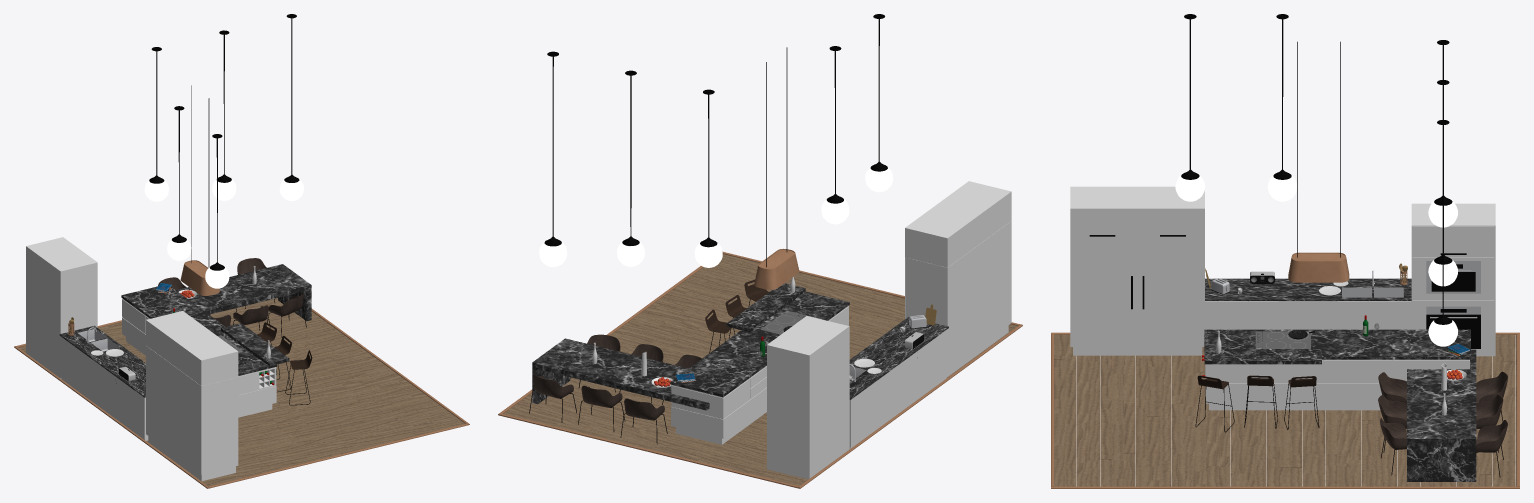
File: kitchen_set.glb
3 renders of one model, left to right at view 1: azimuth 30°, elevation 25°; view 2: azimuth 150°, elevation 25°; view 3: azimuth 270°, elevation 25°, orthographic. The views are drawn at different scales.
Visible parts, largest first — view 1: Floor, Fridge, Cube.009, OvenDrawer, MainCounter, CeilingLamp, OverheadLight, CeilingLamp.002, CeilingLamp.001, Chair.001, Chair.002; view 2: Floor, Cube.009, Fridge, OvenDrawer, MainCounter, CeilingLamp, OverheadLight, CeilingLamp.001, CeilingLamp.002, Chair.005, Chair.004, Chair; view 3: Floor, Cube.009, Fridge, MainCounter, OvenDrawer, CeilingLamp, OverheadLight, CeilingLamp.001, CeilingLamp.002, StoveTop, Chair, Chair.005 (+6 smaller).
Boxes of the visible parts, bbox=[...] form: Floor: bbox=[14, 298, 469, 488]; Fridge: bbox=[146, 311, 238, 481]; Cube.009: bbox=[121, 264, 311, 417]; OvenDrawer: bbox=[26, 237, 97, 378]; MainCounter: bbox=[59, 325, 148, 440]; CeilingLamp: bbox=[144, 14, 303, 201]; OverheadLight: bbox=[180, 85, 219, 295]; CeilingLamp.002: bbox=[167, 106, 191, 260]; CeilingLamp.001: bbox=[205, 134, 229, 288]; Chair.001: bbox=[266, 294, 306, 337]; Chair.002: bbox=[233, 305, 270, 330]; Floor: bbox=[498, 251, 1022, 488]; Cube.009: bbox=[532, 283, 849, 444]; Fridge: bbox=[905, 181, 1011, 377]; OvenDrawer: bbox=[767, 316, 849, 479]; MainCounter: bbox=[849, 317, 948, 448]; CeilingLamp: bbox=[539, 51, 722, 267]; OverheadLight: bbox=[754, 47, 799, 289]; CeilingLamp.001: bbox=[865, 14, 893, 192]; CeilingLamp.002: bbox=[821, 46, 849, 224]; Chair.005: bbox=[620, 398, 667, 444]; Chair.004: bbox=[578, 385, 625, 431]; Chair: bbox=[529, 374, 576, 422]; Floor: bbox=[1051, 332, 1519, 488]; Cube.009: bbox=[1204, 329, 1476, 481]; Fridge: bbox=[1070, 186, 1204, 355]; MainCounter: bbox=[1205, 270, 1411, 329]; OvenDrawer: bbox=[1411, 203, 1495, 356]; CeilingLamp: bbox=[1428, 40, 1457, 346]; OverheadLight: bbox=[1288, 41, 1349, 282]; CeilingLamp.001: bbox=[1175, 14, 1205, 201]; CeilingLamp.002: bbox=[1267, 14, 1297, 201]; StoveTop: bbox=[1255, 331, 1310, 348]; Chair: bbox=[1476, 420, 1507, 477]; Chair.005: bbox=[1476, 371, 1508, 421].
Bounding box in the file's own units: 6.26 × 6.7 × 7.98.
20 materials, 13 textured.
